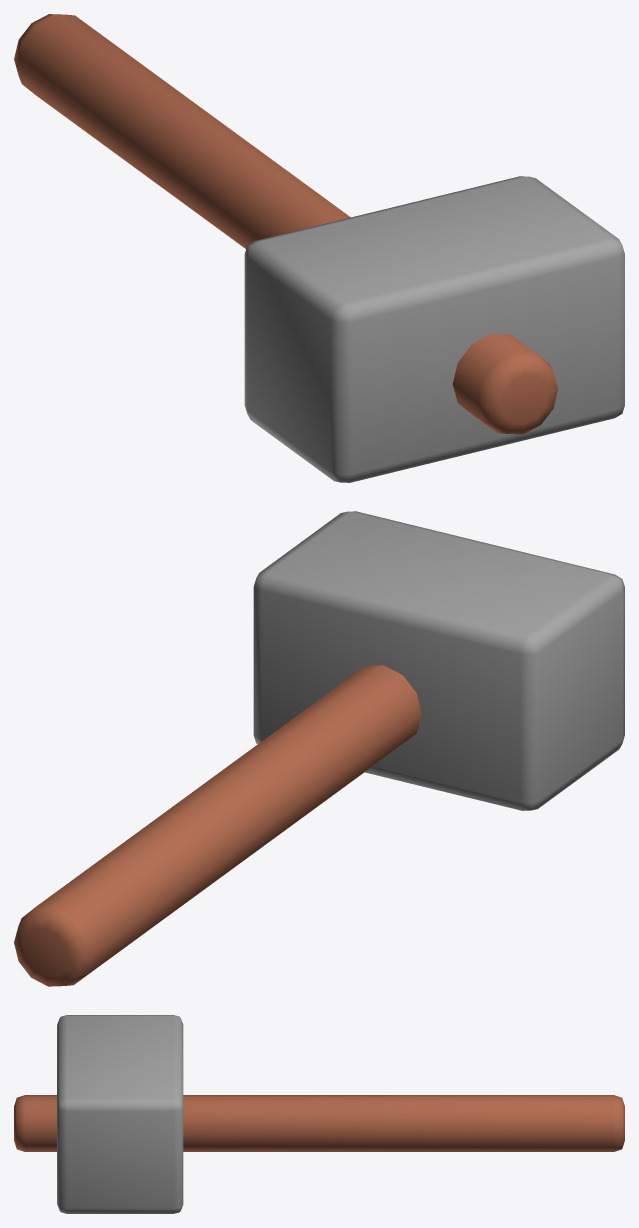
Rendered from Hammer.fbx.
The picture shows the model from 3 angles, top to bottom: view 1: azimuth 30°, elevation 25°; view 2: azimuth 150°, elevation 25°; view 3: azimuth 270°, elevation 25°; orthographic projection. The views are drawn at different scales.
Parts seen in each view (by area): view 1: Hammer; view 2: Hammer; view 3: Hammer.
Boxes of the visible parts, box(x1,y1,x2,y2) form: Hammer: box(14, 14, 624, 482); Hammer: box(14, 511, 624, 986); Hammer: box(14, 1015, 624, 1213).
Bounding box in the file's own units: 250 × 147 × 711.
